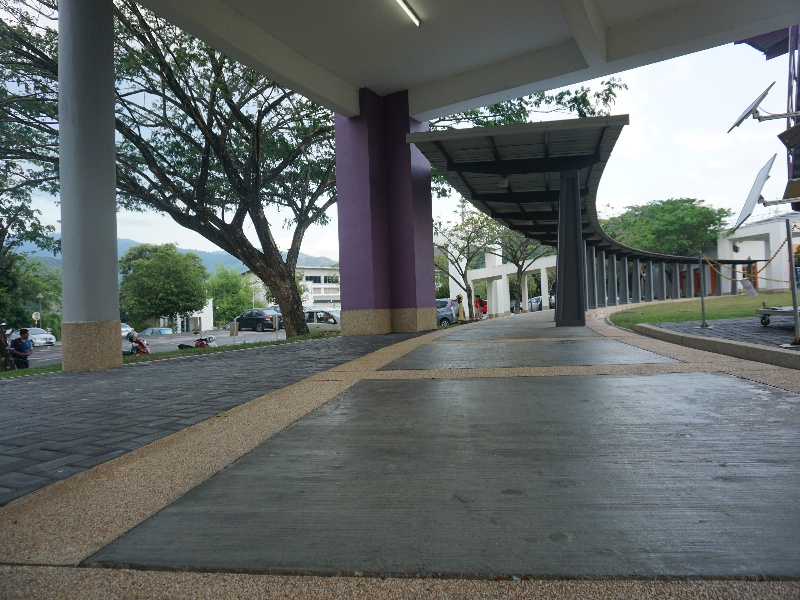Block D Pillar 6: (10, 2, 800, 504)
pillar: (46, 4, 138, 368), (332, 81, 443, 335), (554, 152, 590, 329)
